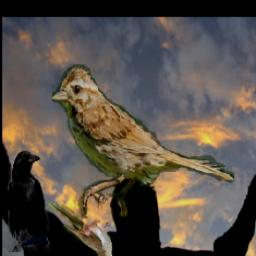Crow: (9, 151, 51, 253)
Cuckoo: (47, 203, 117, 256)
Sparrow: (53, 64, 235, 218)
